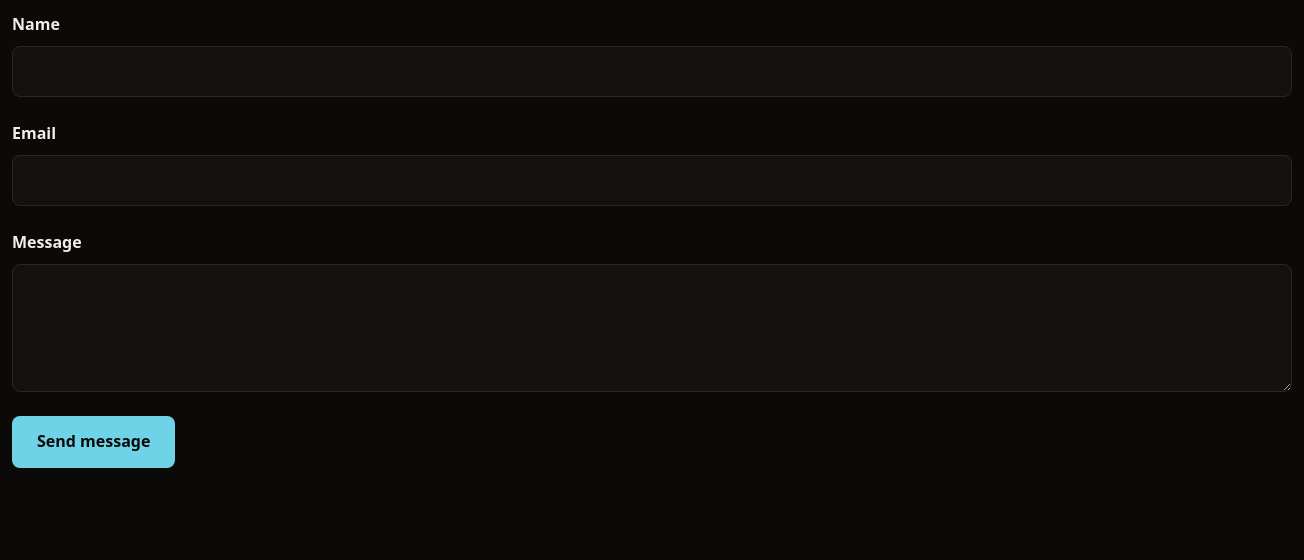
ContactForm › shows the success message and clears the form after a successful send
This screenshot has width=1304, height=560.
Type "Ada Lovelace" into the field labelled "Name" at (652, 71), box [12,46,1292,97]
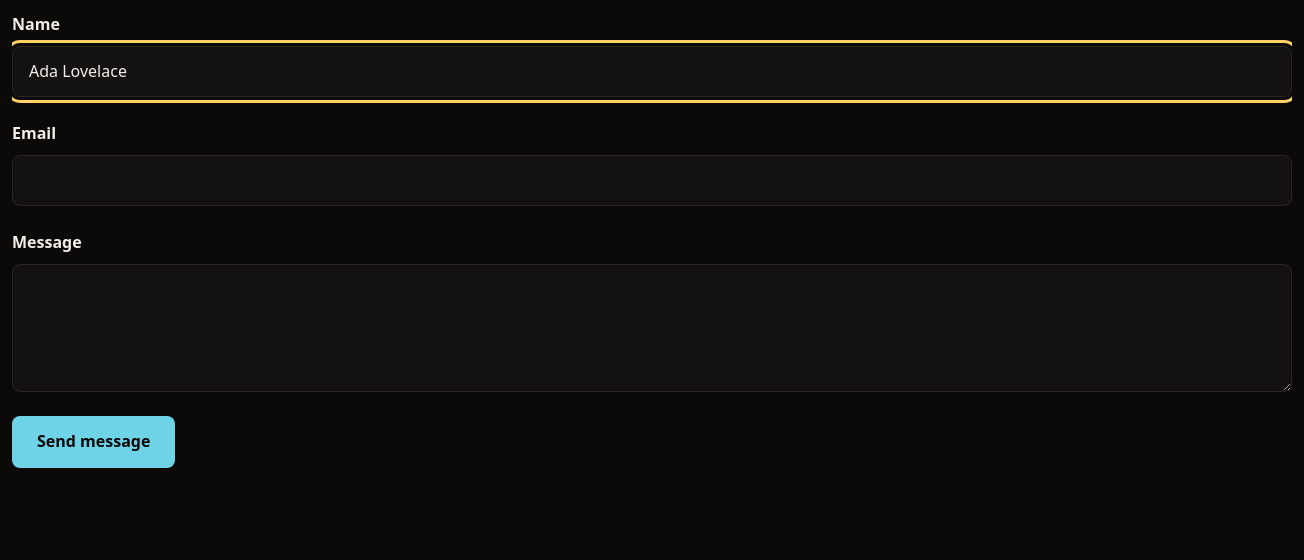
Type "ada@example.com" into the field labelled "Email" at (652, 181), box [12,155,1292,206]
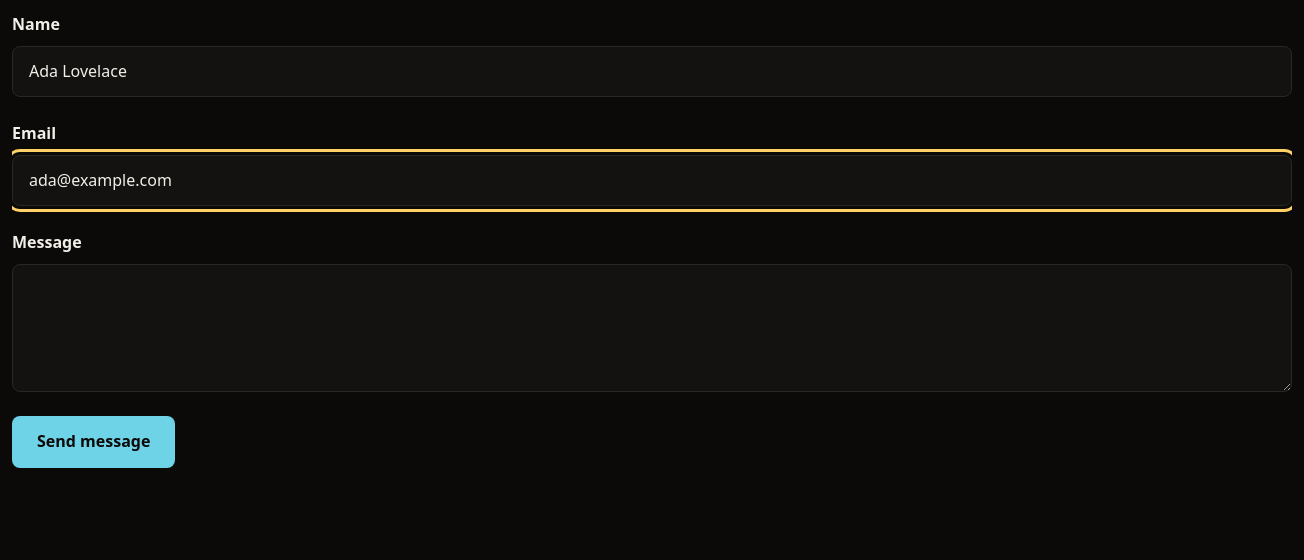
Type "Hello there" into the text box labelled "Message" at (652, 328), box [12,264,1292,392]
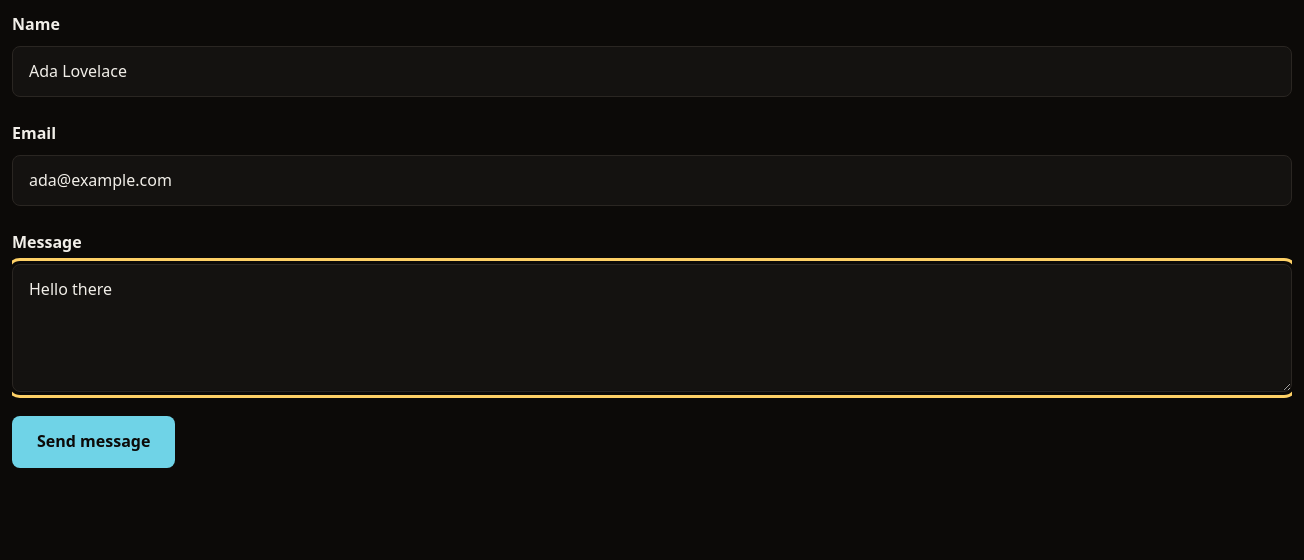
Click the button "Send message" at (94, 442), box [12,416,175,468]
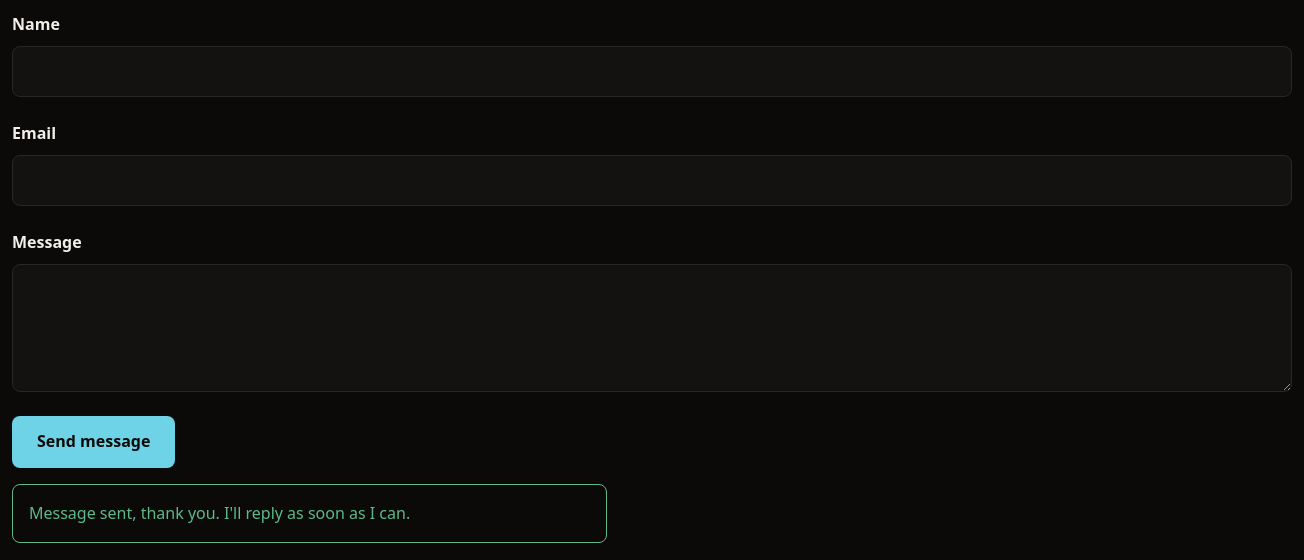
Expected: the text "Message sent, thank you. I'll reply as soon as I can." is shown, [12,484,607,543]
Expected: the field labelled "Name" is empty, [12,46,1292,97]
Expected: the field labelled "Email" is empty, [12,155,1292,206]
